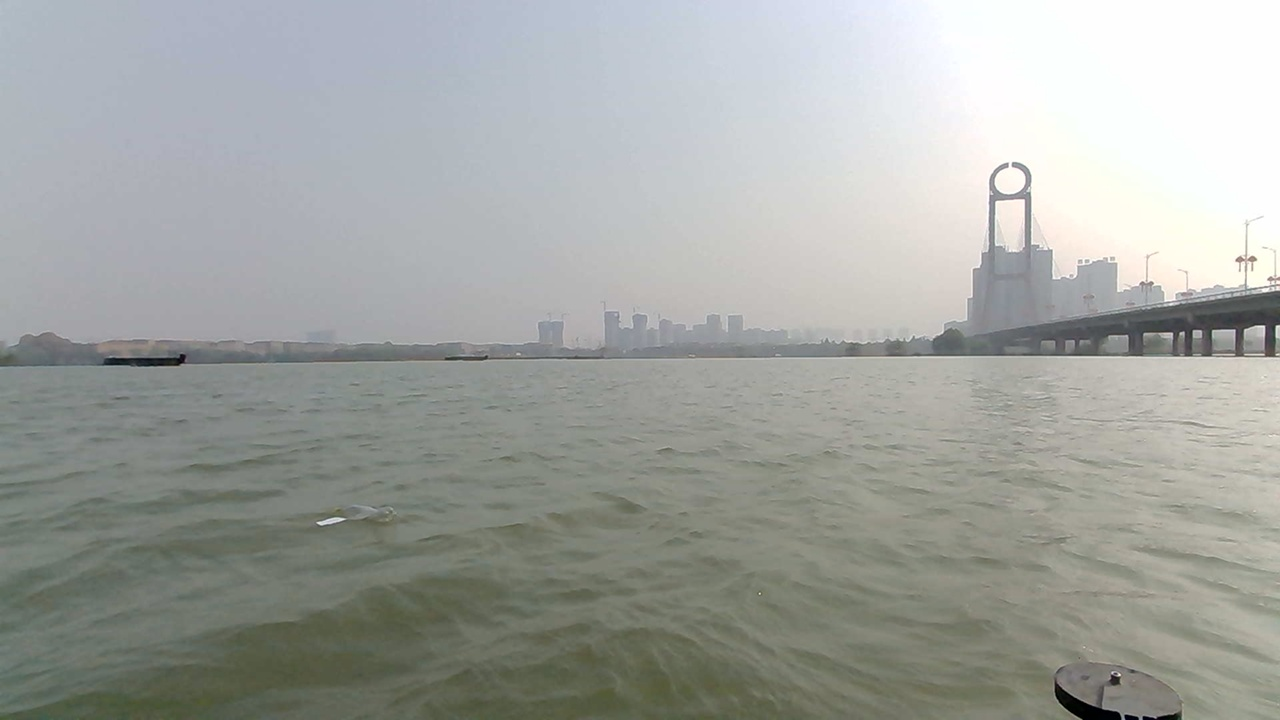bottle: (285, 533, 435, 597)
